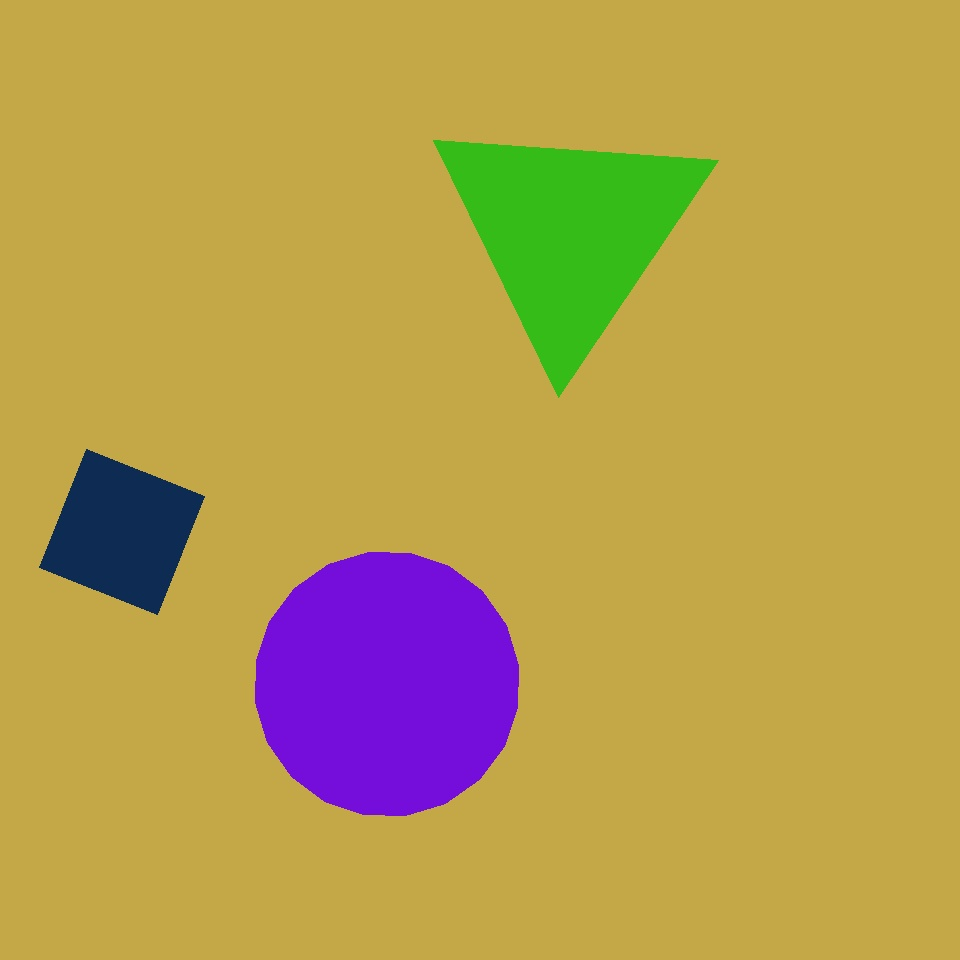circle: (428, 104, 712, 362), (344, 37, 478, 185)
square: (243, 573, 556, 886), (450, 468, 660, 677), (39, 450, 204, 614), (373, 746, 514, 886), (646, 22, 779, 155)
triangle: (255, 552, 518, 816)
